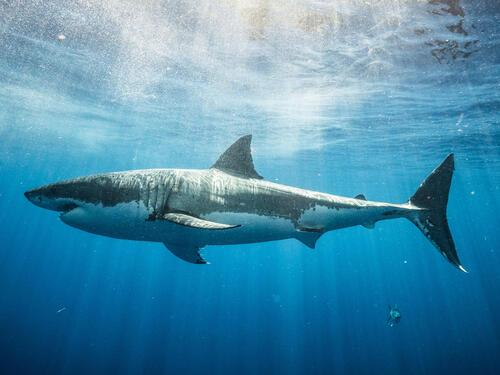shark: (24, 133, 468, 274)
